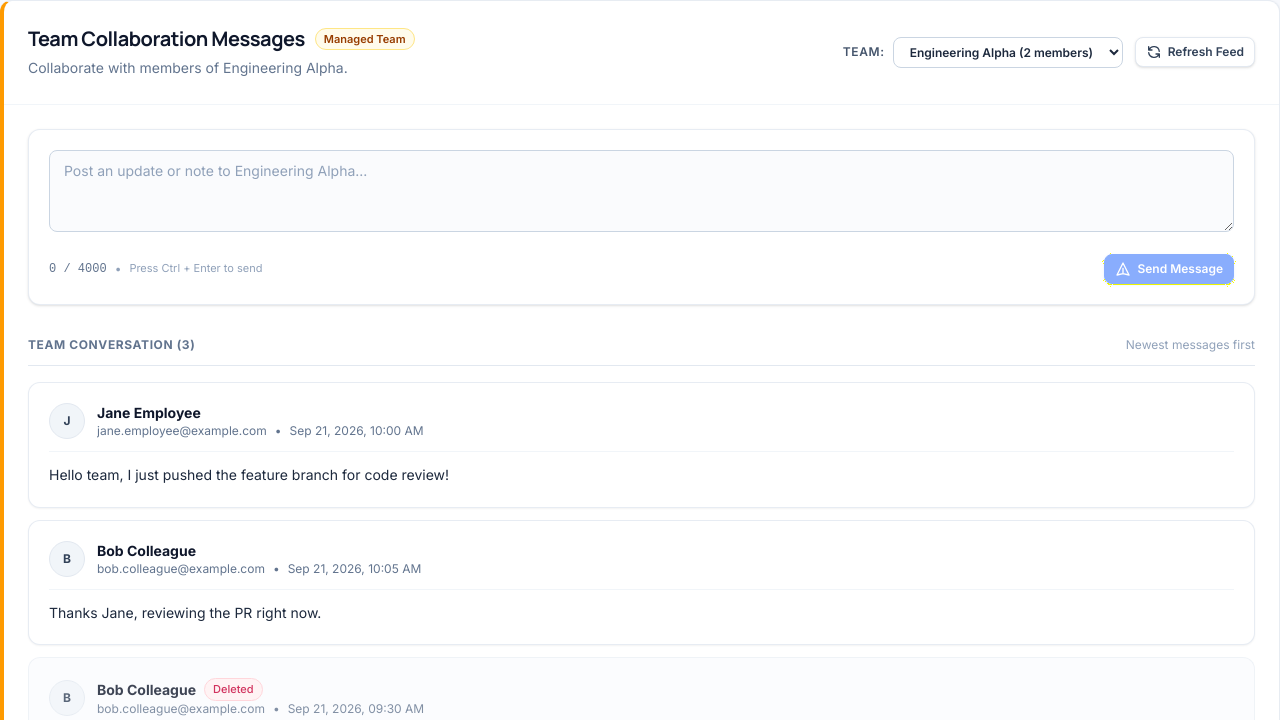
it: Collaboration Messages Feature Suite › Manager Workflow › manager selects managed team, loads messages, and posts team message
Expected: the dropdown named "select managed team" is shown, [893, 37, 1123, 68]
// Post a manager message
Type "Sprint planning is scheduled for tomorrow 10am." into the text box named "compose team message". click: {"x": 642, "y": 191}
box: [49, 150, 1234, 232]
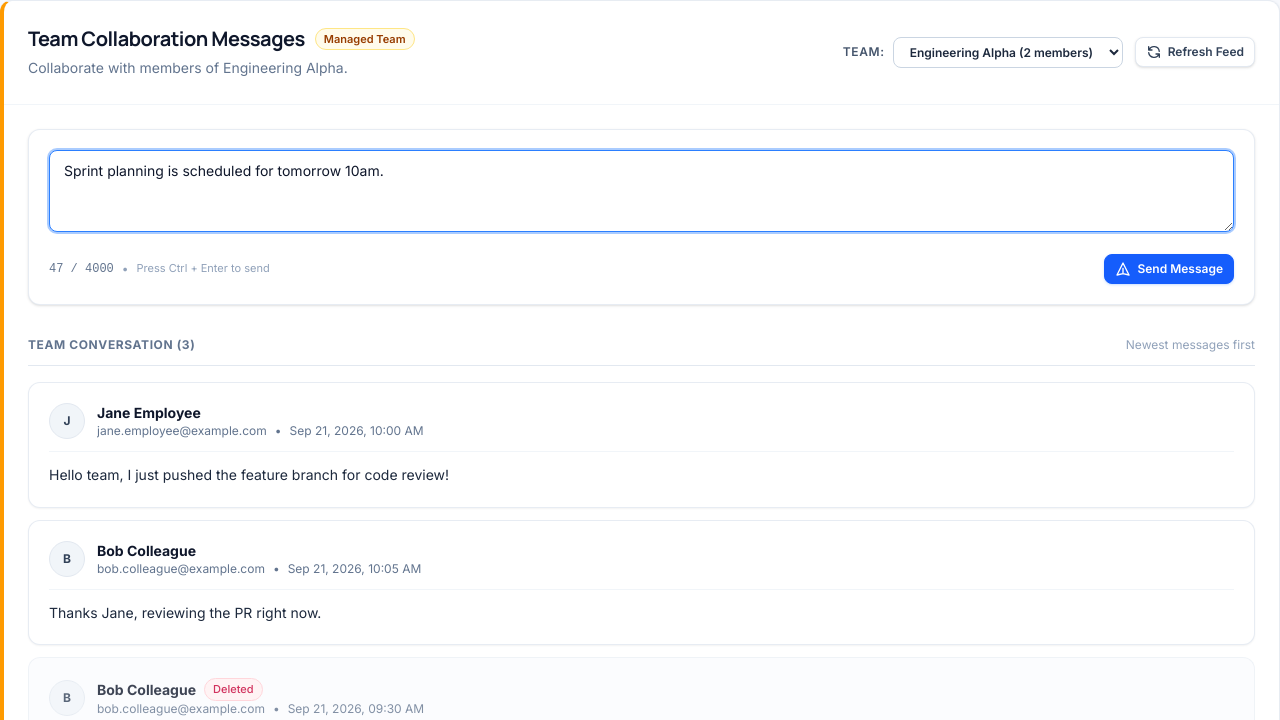
Click the button "Send Message". click: {"x": 1169, "y": 269}
box: [1104, 254, 1234, 284]
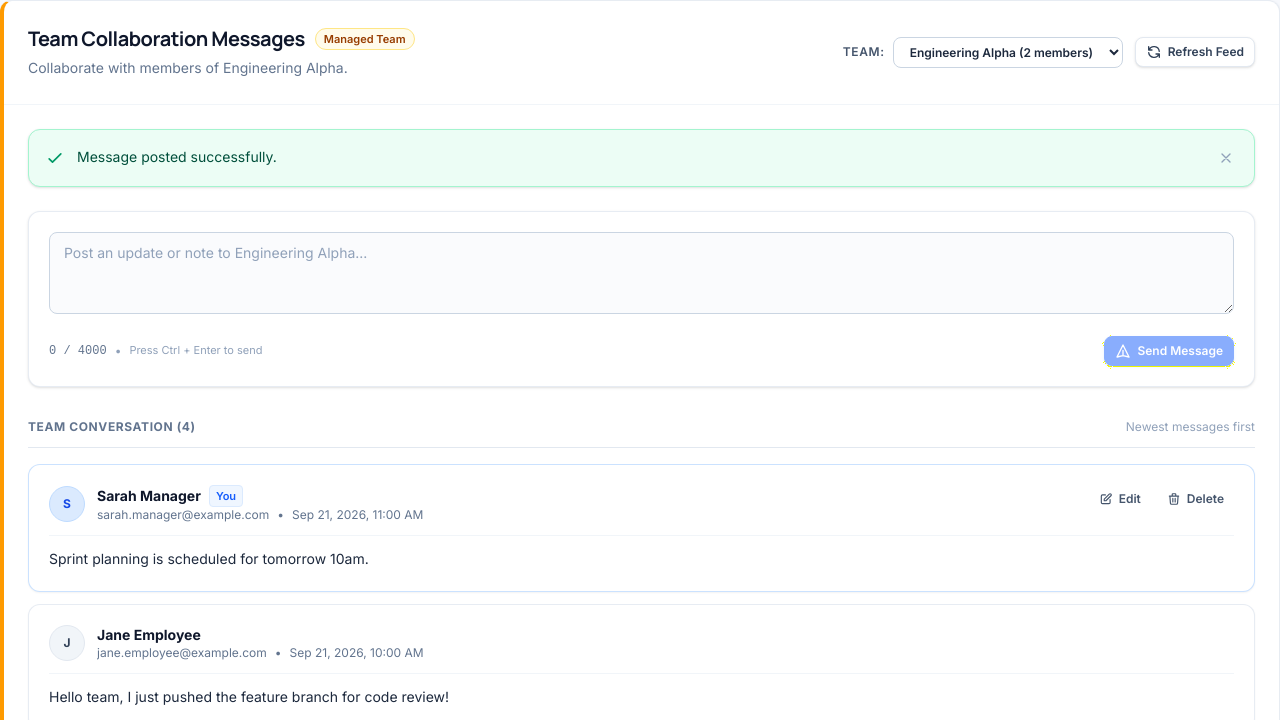
Expected: the text "Sprint planning is scheduled for tomorrow 10am." is shown, [49, 550, 369, 567]
